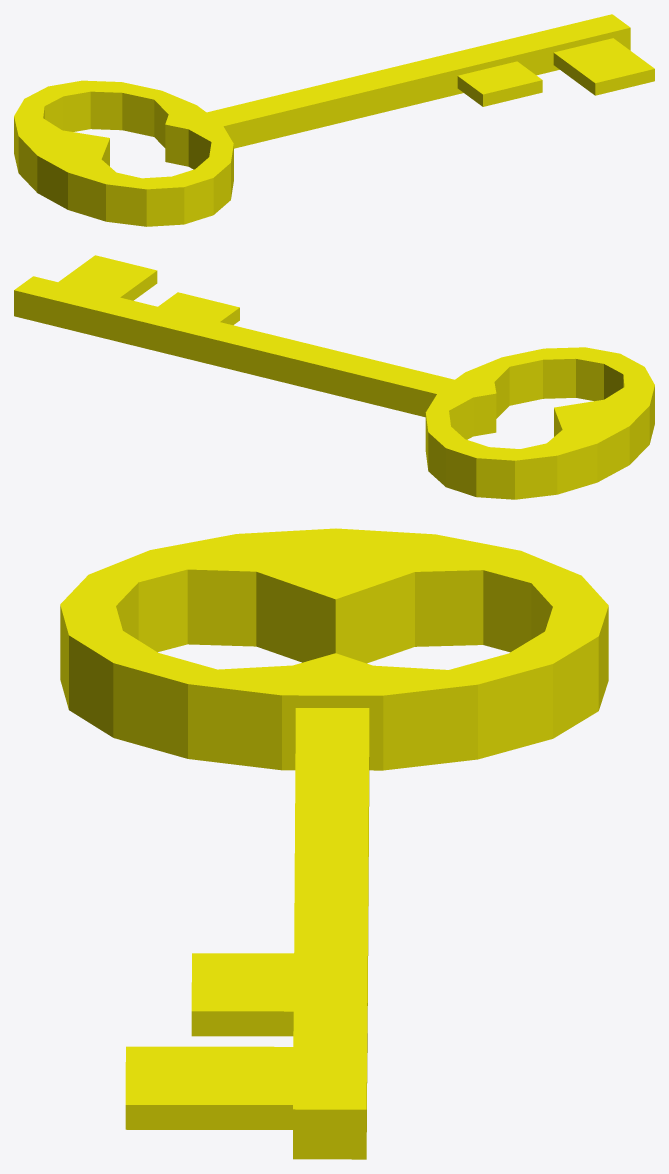
The model's file is Chave_Amarelo.fbx.
3 renders of one model, top to bottom at view 1: azimuth 30°, elevation 25°; view 2: azimuth 150°, elevation 25°; view 3: azimuth 270°, elevation 25°, orthographic. The views are drawn at different scales.
Visible parts, largest first — view 1: Chaves_Coloridas; view 2: Chaves_Coloridas; view 3: Chaves_Coloridas.
Boxes of the visible parts, box(x1,y1,x2,y2) form: Chaves_Coloridas: box(14, 14, 654, 226); Chaves_Coloridas: box(14, 255, 654, 499); Chaves_Coloridas: box(60, 528, 608, 1159).
Bounding box in the file's own units: 488 × 30 × 199.
